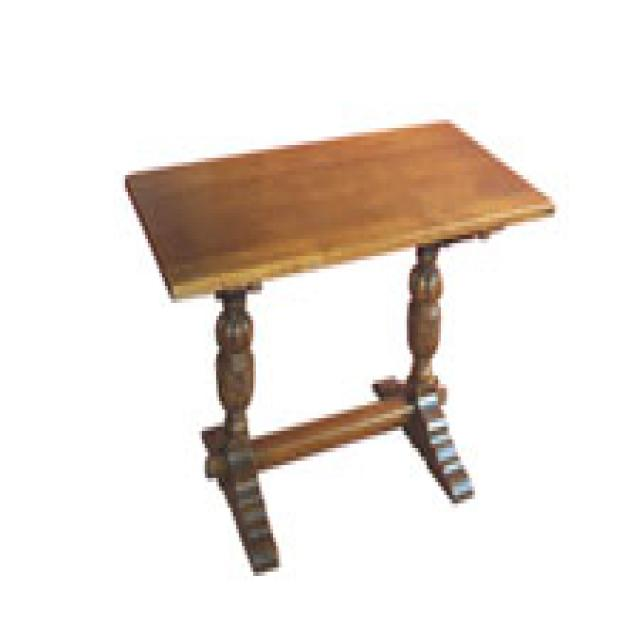table: (122, 115, 556, 574)
